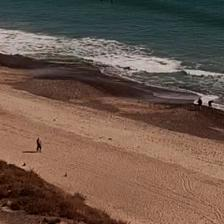surfer: (100, 0, 102, 2), (110, 0, 113, 1)
